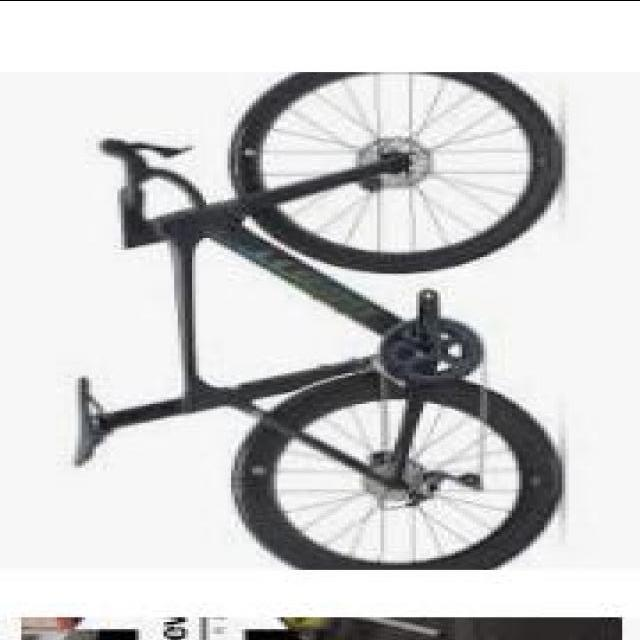bicycle: (51, 73, 567, 575)
